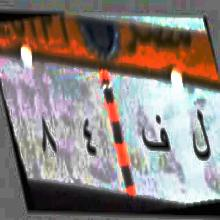4: (81, 117, 97, 164)
8: (39, 114, 56, 162)
faa: (141, 111, 172, 162)
laam: (189, 104, 212, 173)
